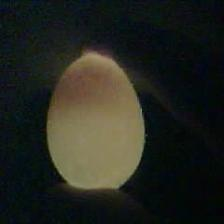infertile: (46, 52, 145, 194)
